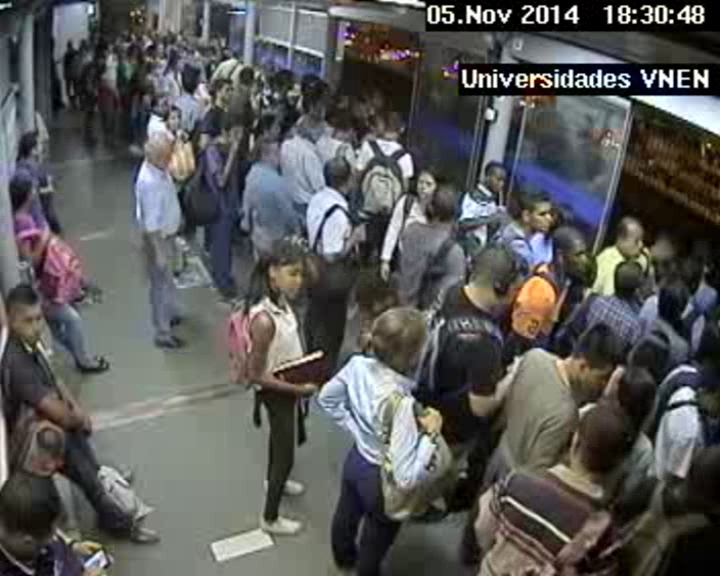person: (1, 472, 63, 558), (568, 406, 633, 479), (366, 305, 432, 375), (565, 324, 625, 391), (470, 245, 526, 310), (256, 237, 310, 304), (671, 444, 720, 510), (8, 285, 57, 346), (617, 365, 665, 423), (513, 277, 561, 334), (25, 417, 69, 474), (548, 227, 594, 279), (518, 189, 557, 233), (635, 329, 672, 375), (612, 215, 648, 259), (213, 109, 247, 151), (321, 156, 354, 195), (654, 279, 687, 318), (611, 260, 644, 298), (675, 254, 706, 292), (144, 133, 175, 170), (8, 175, 39, 211), (430, 188, 462, 222), (649, 234, 677, 268), (481, 160, 509, 192), (413, 166, 440, 199), (360, 86, 388, 116), (381, 113, 409, 142), (331, 109, 359, 138), (18, 130, 43, 161), (178, 65, 204, 93), (298, 113, 321, 143), (256, 115, 281, 142), (213, 78, 237, 106), (260, 142, 281, 166), (149, 95, 170, 117), (276, 69, 296, 91), (167, 106, 186, 129), (313, 79, 332, 102), (304, 96, 325, 116), (300, 72, 319, 94), (239, 66, 257, 86), (257, 72, 275, 90), (128, 45, 142, 59), (220, 47, 232, 60), (167, 51, 179, 63), (78, 38, 88, 50), (142, 61, 152, 73), (106, 43, 115, 56), (96, 55, 106, 66), (147, 45, 156, 57), (156, 43, 165, 54), (197, 49, 207, 58), (66, 41, 75, 50), (135, 30, 143, 40), (128, 29, 135, 38), (149, 29, 156, 38), (178, 29, 185, 37), (209, 46, 215, 55), (170, 37, 176, 44), (167, 31, 172, 37)
